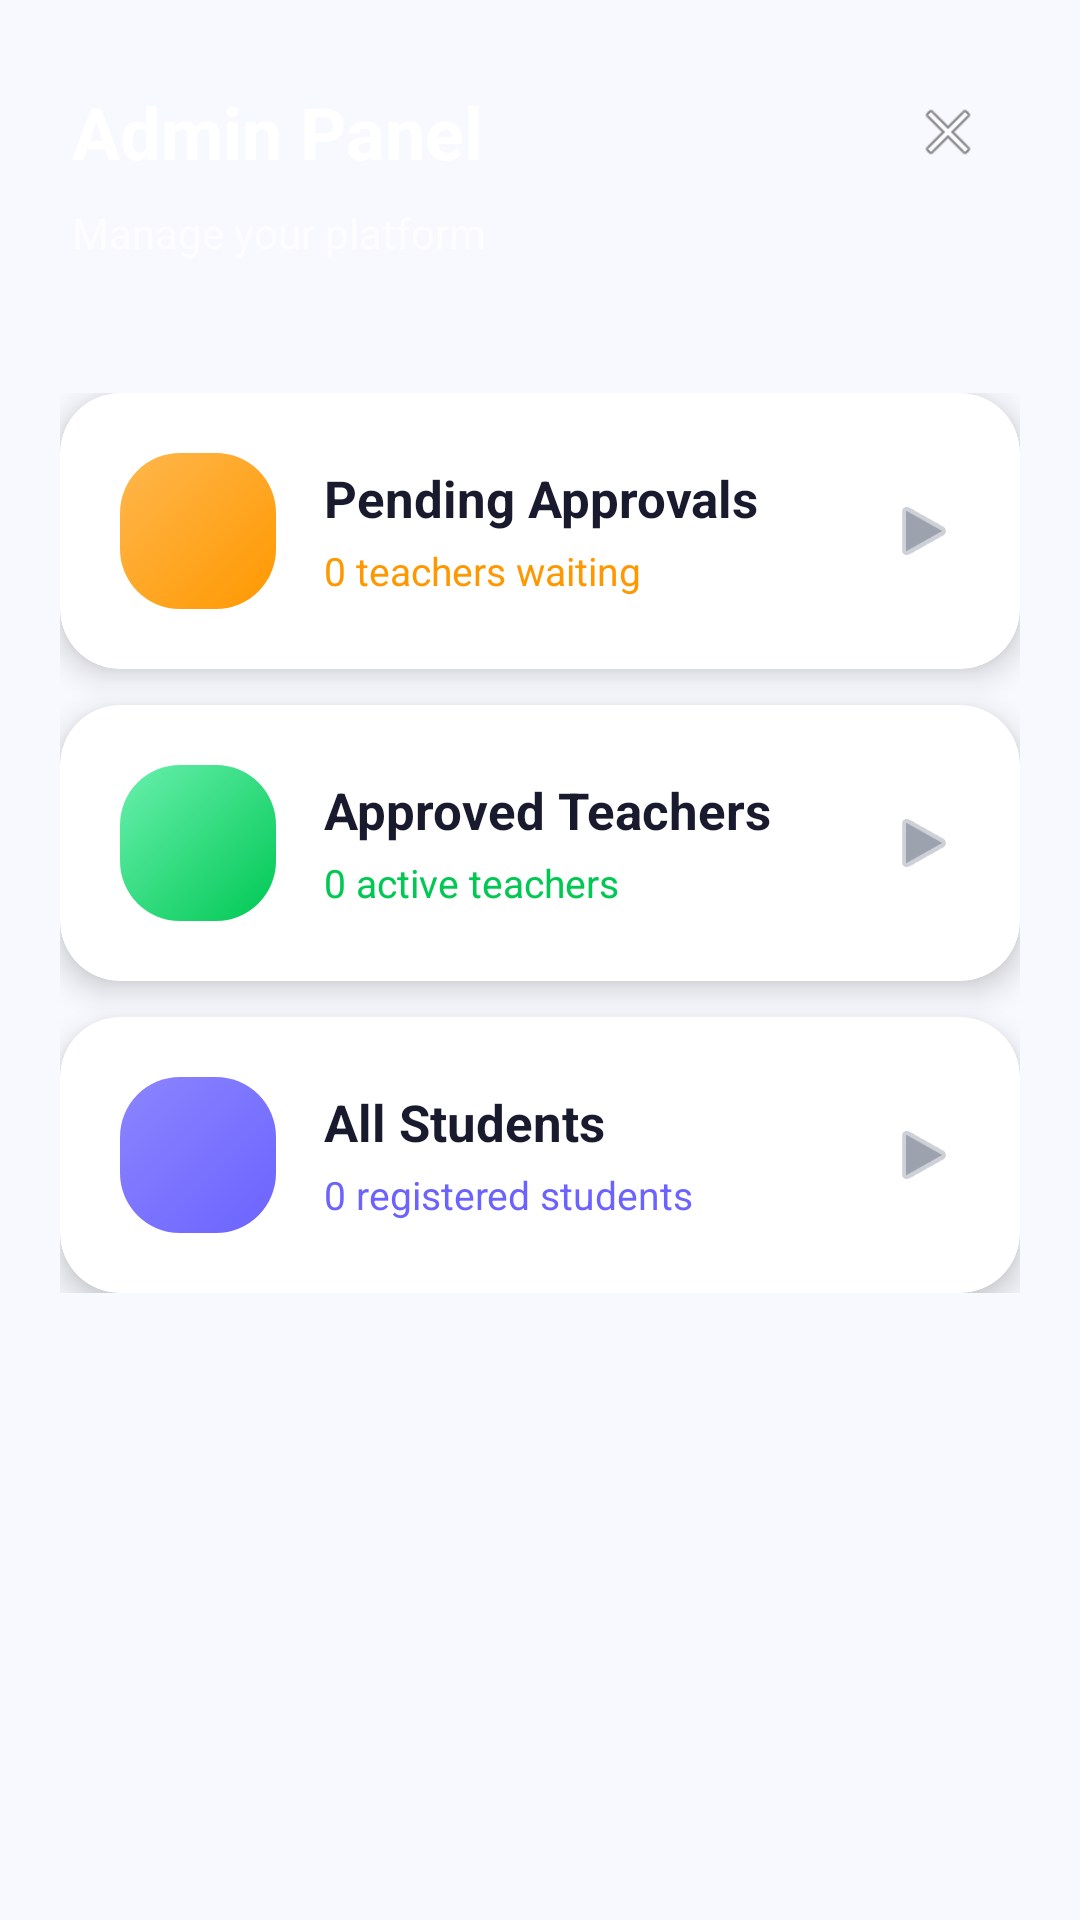

Icons on this 1080px×1920px Android screen, each with the point to tap as [x,y]:
Go: [924,531], [924,843], [924,1155]
